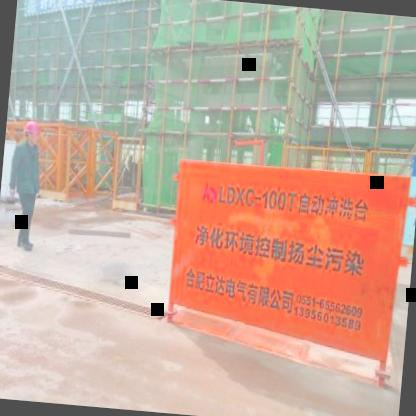helmet: (20, 116, 42, 152)
